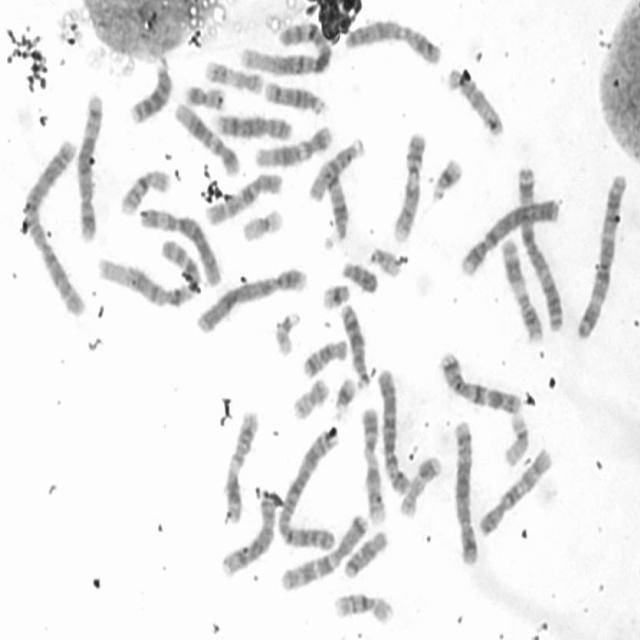A1: (95, 233, 202, 310), (238, 17, 332, 76)
A2: (19, 133, 89, 319), (276, 423, 342, 552)
A3: (573, 168, 630, 342), (512, 160, 566, 334)
B4: (456, 191, 563, 279), (193, 262, 309, 336)
B5: (72, 85, 107, 244), (449, 414, 481, 567)
C10: (474, 442, 555, 539), (200, 166, 286, 227)
C11: (497, 232, 546, 344), (220, 402, 262, 525)
C12: (171, 96, 242, 177), (251, 119, 335, 169)
C6: (136, 202, 224, 288), (375, 362, 413, 496)
C7: (276, 506, 372, 593), (436, 344, 524, 414)
C8: (218, 488, 278, 579), (212, 106, 295, 142)
C9: (389, 125, 428, 244), (358, 401, 389, 527)
D13: (126, 51, 174, 126), (337, 297, 372, 390)
D14: (320, 163, 352, 251), (260, 75, 328, 116)
D15: (444, 63, 506, 139), (304, 132, 366, 204)
E16: (116, 163, 172, 217), (330, 586, 396, 626)
E17: (396, 448, 444, 518), (202, 54, 266, 96)
E18: (341, 523, 391, 579), (299, 333, 349, 380)
F19: (499, 407, 531, 467), (239, 203, 285, 244)
F20: (288, 371, 331, 421), (182, 78, 227, 111)
G21: (427, 150, 465, 204), (330, 370, 358, 418), (320, 283, 351, 311)
G22: (271, 305, 303, 358), (366, 241, 404, 279)
X: (340, 13, 443, 66)
Y: (338, 255, 379, 294)
